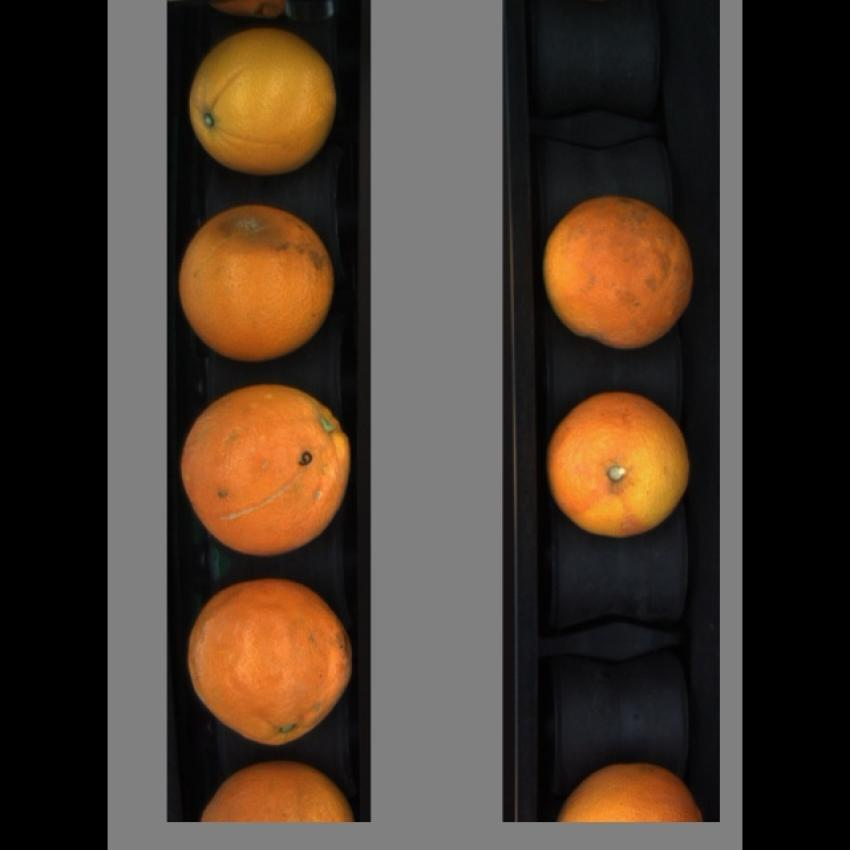Buen estado: (179, 30, 346, 178), (546, 395, 698, 536), (196, 760, 360, 824), (556, 760, 714, 824)
Mal estado: (175, 374, 359, 557), (182, 575, 360, 750), (534, 194, 707, 355), (176, 200, 342, 366)
